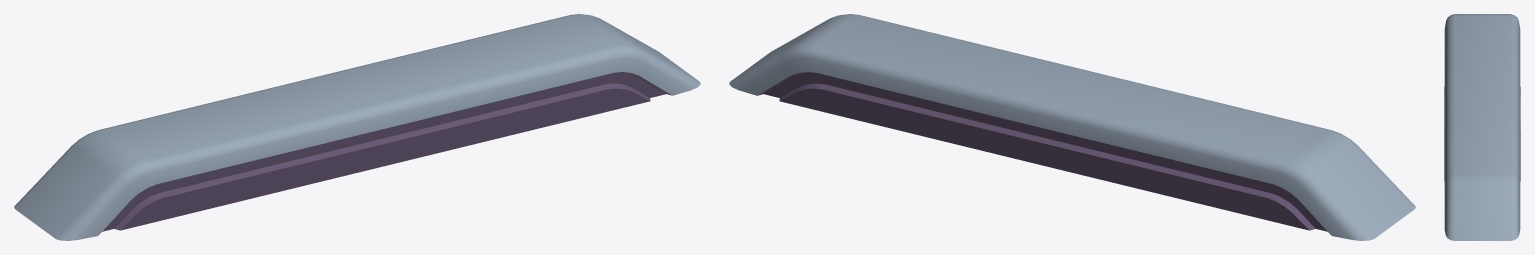
The model's file is RoadSideDecor01.fbx.
3 views of the same model, side by side, from view 1: azimuth 30°, elevation 25°; view 2: azimuth 150°, elevation 25°; view 3: azimuth 270°, elevation 25° (orthographic). The views are drawn at different scales.
Visible parts, largest first — view 1: RoadSide02.003; view 2: RoadSide02.003; view 3: RoadSide02.003.
Part boxes in pixels (x1,y1,x2,y2): RoadSide02.003: (14, 14, 700, 240); RoadSide02.003: (729, 14, 1415, 240); RoadSide02.003: (1444, 14, 1520, 240).
Size of the model in its own units: 437 by 36.98 by 65.75.
